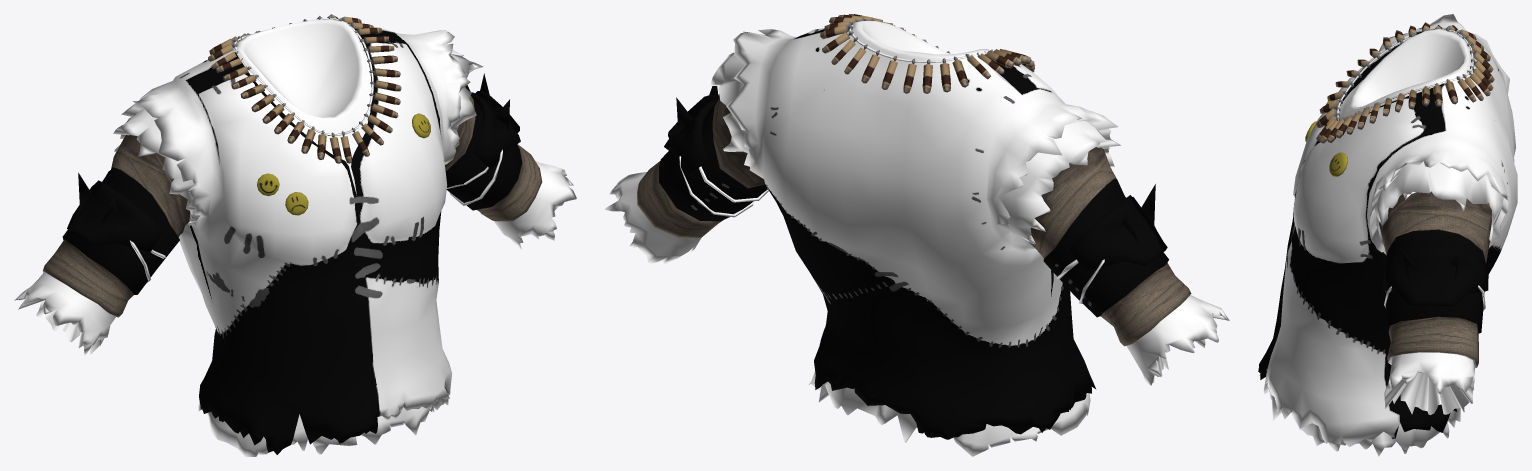
The model's file is SurvivorMale_Chest_Shirt_Reaver_LOD0.glb.
The picture shows the model from 3 angles, left to right: view 1: azimuth 30°, elevation 25°; view 2: azimuth 150°, elevation 25°; view 3: azimuth 270°, elevation 25°; orthographic projection. The views are drawn at different scales.
Visible parts, largest first — view 1: Hoodie; view 2: Hoodie; view 3: Hoodie.
Part boxes in pixels (left/top/right/bottom): Hoodie: left=14, top=14, right=576, bottom=456; Hoodie: left=605, top=14, right=1229, bottom=456; Hoodie: left=1258, top=14, right=1517, bottom=456.
Size of the model in its own units: 0.8662 by 0.5397 by 0.3566.
Materials: 1 (1 with a texture image).
